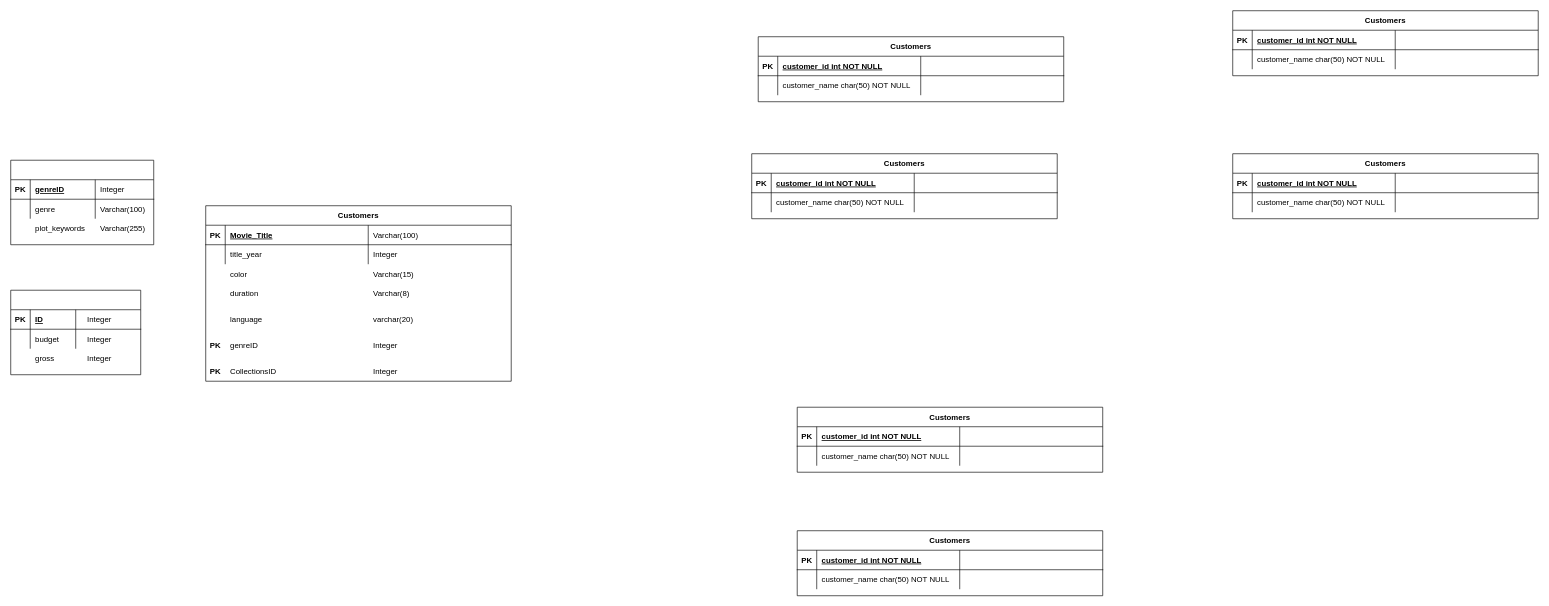
Image size: 1549x606. Some labels were removed from this diagram. Each missing label, with the box of its shape:
Collection details: (10, 290, 141, 375)
Movie_Genres: (10, 160, 154, 245)
